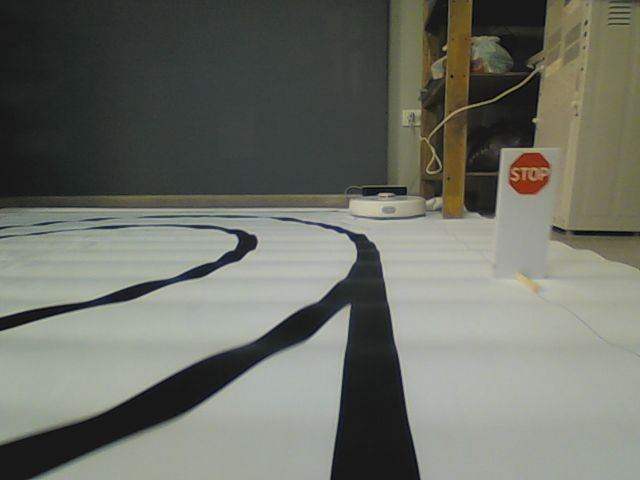Stop: (507, 153, 553, 196)
